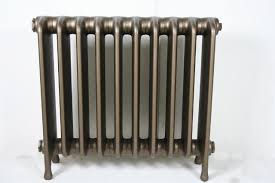Radiator: (30, 13, 223, 183)
